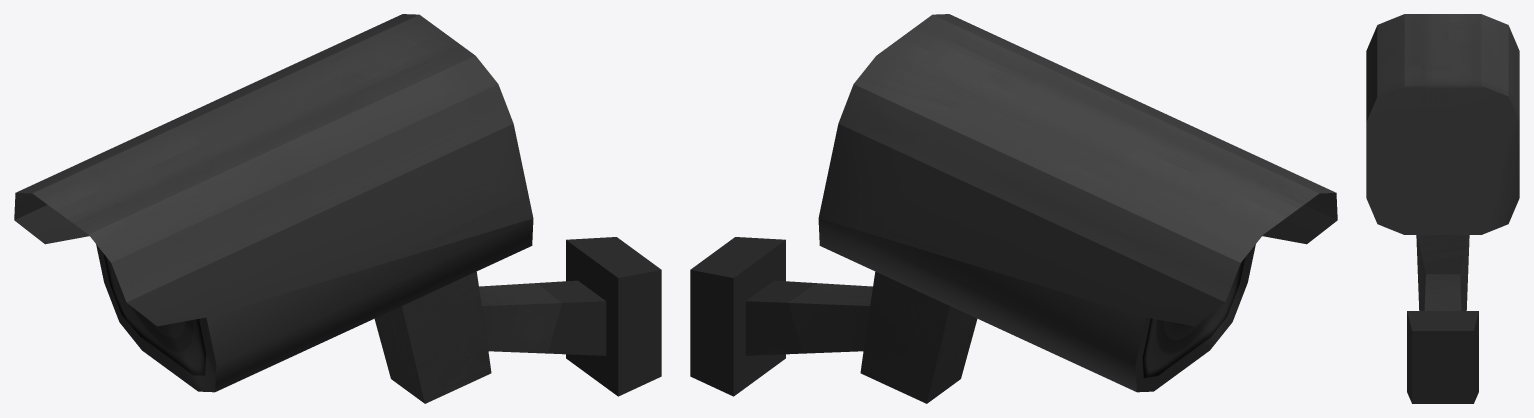
File: BgMD_CameraComp_0101.fbx
3 views of the same model, side by side, from view 1: azimuth 30°, elevation 25°; view 2: azimuth 150°, elevation 25°; view 3: azimuth 270°, elevation 25° (orthographic). The views are drawn at different scales.
Parts seen in each view (by area): view 1: pCube6; view 2: pCube6; view 3: pCube6.
Boxes of the visible parts, x1,y1,x2,y2 form: pCube6: (14,14,661,403); pCube6: (690,14,1337,403); pCube6: (1366,14,1519,403).
Bounding box in the file's own units: 44.67 × 27.85 × 15.
1 material, 1 textured.
